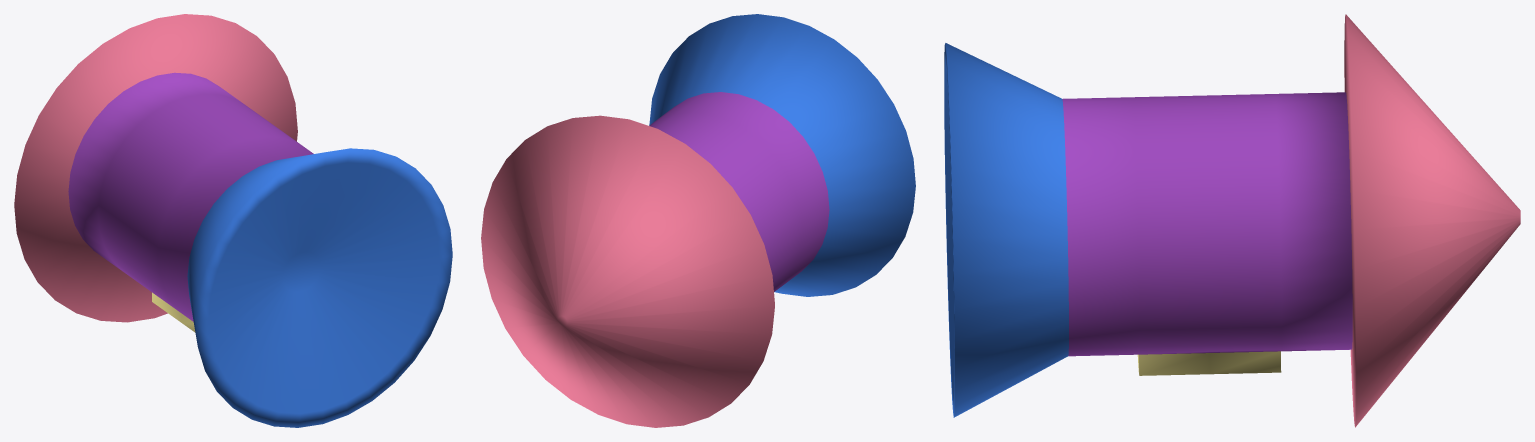
File: Rocket2.fbx
3 views of the same model, side by side, from view 1: azimuth 30°, elevation 25°; view 2: azimuth 150°, elevation 25°; view 3: azimuth 270°, elevation 25° (orthographic). The views are drawn at different scales.
Visible parts, largest first — view 1: Cylinder; view 2: Cylinder; view 3: Cylinder.
Part boxes in pixels (left/top/right/bottom): Cylinder: left=14, top=14, right=452, bottom=427; Cylinder: left=481, top=14, right=915, bottom=427; Cylinder: left=944, top=14, right=1520, bottom=427.
Size of the model in its own units: 209 by 209 by 291.
